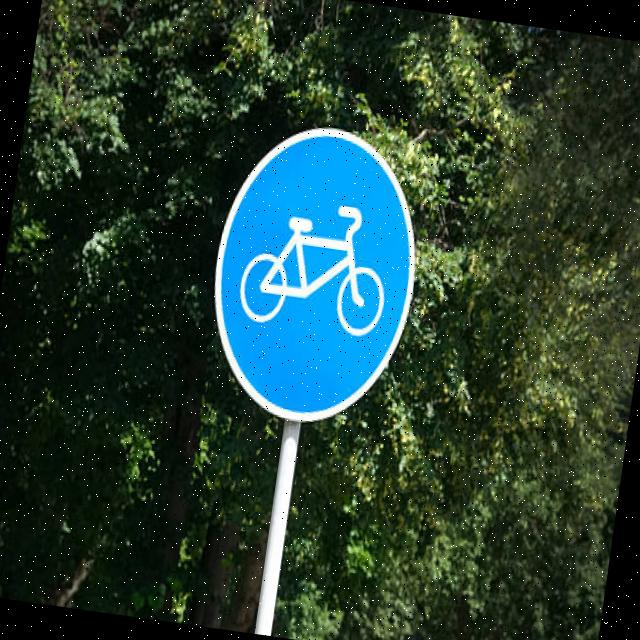bicycle: (193, 110, 436, 436)
